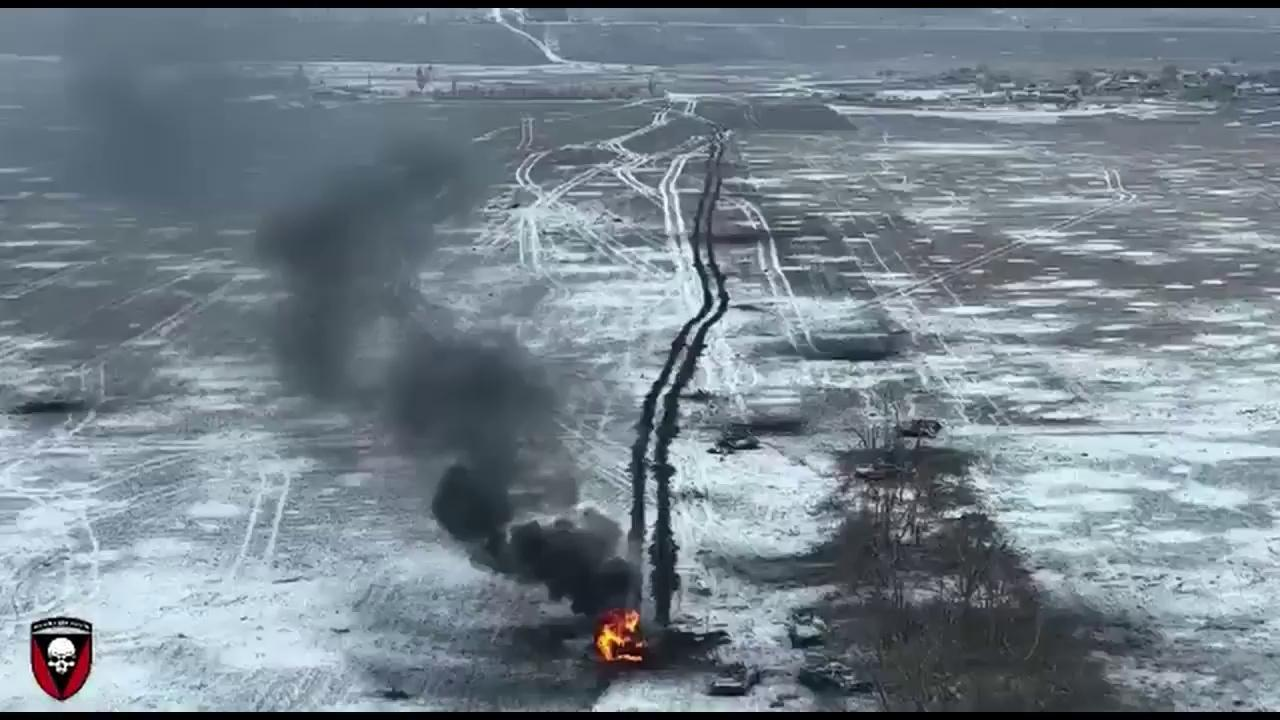vehicle: (802, 658, 874, 694), (710, 663, 761, 694), (789, 612, 834, 646), (857, 458, 908, 482), (716, 432, 760, 450), (898, 420, 944, 437)
